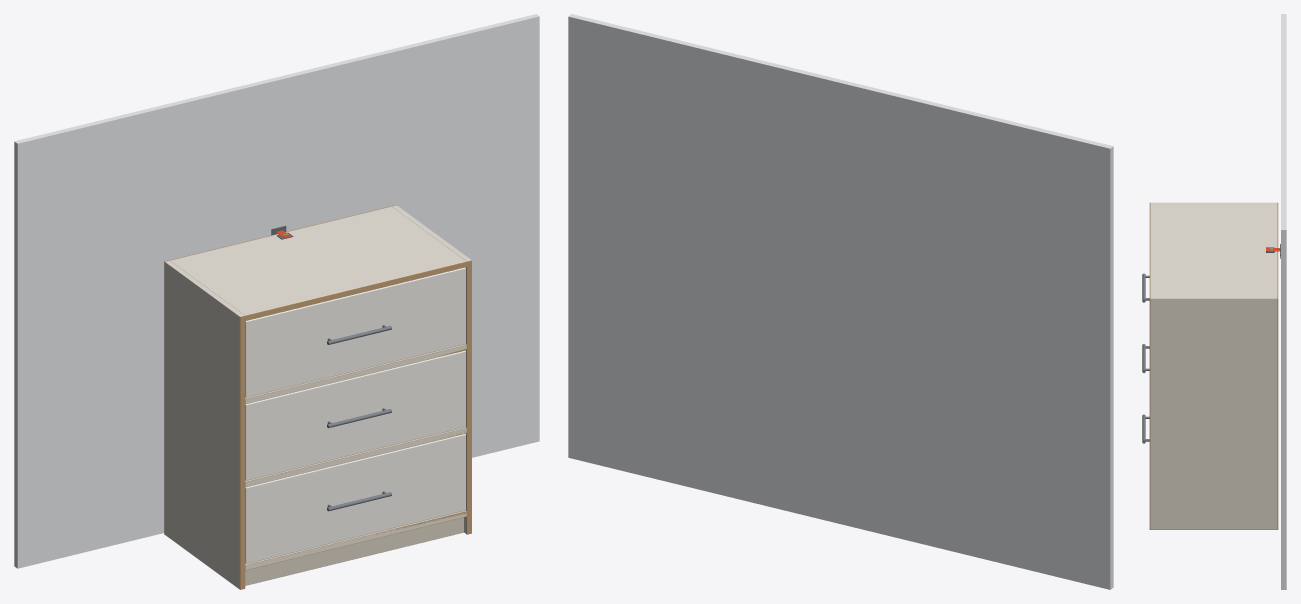
Rendered from dresser.glb.
The picture shows the model from 3 angles, left to right: view 1: azimuth 30°, elevation 25°; view 2: azimuth 150°, elevation 25°; view 3: azimuth 270°, elevation 25°; orthographic projection. The views are drawn at different scales.
Parts seen in each view (by area): view 1: wall, left_side, top_panel, drawer_1, drawer_2, drawer_3, bottom_panel, cross_rails, right_side; view 2: wall; view 3: right_side, top_panel, wall, back_panel, left_side.
Part boxes in pixels (x1,y1,x2,y2): wall: (14, 14, 539, 568); left_side: (165, 260, 245, 589); top_panel: (170, 206, 466, 320); drawer_1: (245, 267, 465, 397); drawer_2: (245, 350, 465, 480); drawer_3: (245, 434, 465, 563); bottom_panel: (245, 510, 466, 585); cross_rails: (245, 344, 466, 487); right_side: (392, 205, 471, 534); wall: (568, 14, 1113, 589); right_side: (1149, 296, 1277, 529); top_panel: (1149, 205, 1277, 296); wall: (1281, 14, 1286, 589); back_panel: (1277, 202, 1278, 529); left_side: (1149, 202, 1277, 204).
Bounding box in the file's own units: 1800 × 1400 × 509.
